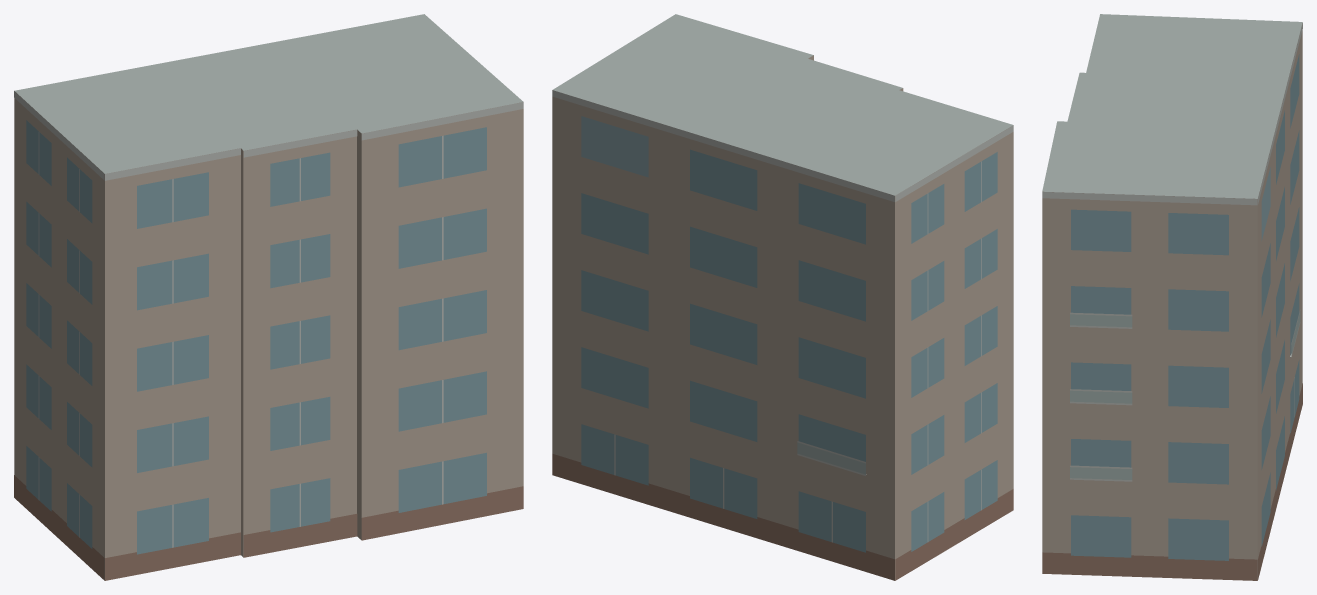
The model's file is survey-upis-32988408.glb.
3 views of the same model, side by side, from view 1: azimuth 30°, elevation 25°; view 2: azimuth 150°, elevation 25°; view 3: azimuth 270°, elevation 25° (orthographic). The views are drawn at different scales.
Visible parts, largest first — view 1: survey-upis-32988408.tmp; view 2: survey-upis-32988408.tmp; view 3: survey-upis-32988408.tmp.
Part boxes in pixels (x1,y1,x2,y2): survey-upis-32988408.tmp: (14, 14, 523, 580); survey-upis-32988408.tmp: (552, 14, 1013, 580); survey-upis-32988408.tmp: (1042, 14, 1302, 580).
Size of the model in its own units: 14.85 by 14.3 by 8.85.
